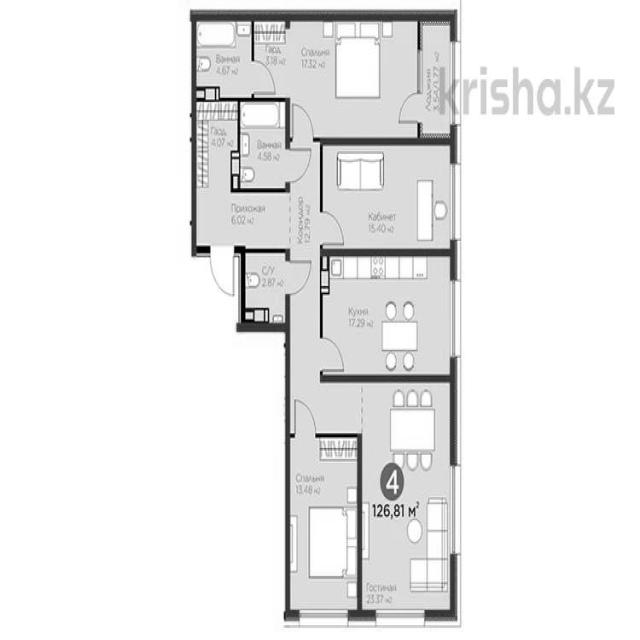balcony: (420, 14, 458, 139)
bathroom: (193, 19, 254, 100), (240, 97, 289, 191), (240, 250, 289, 330)
hallway: (288, 144, 322, 436), (192, 193, 290, 249)
kitchen: (323, 251, 455, 376)
living_room: (362, 378, 455, 616), (289, 15, 420, 144), (323, 140, 457, 250), (290, 436, 360, 617)
other: (192, 101, 238, 194), (254, 18, 291, 97)
